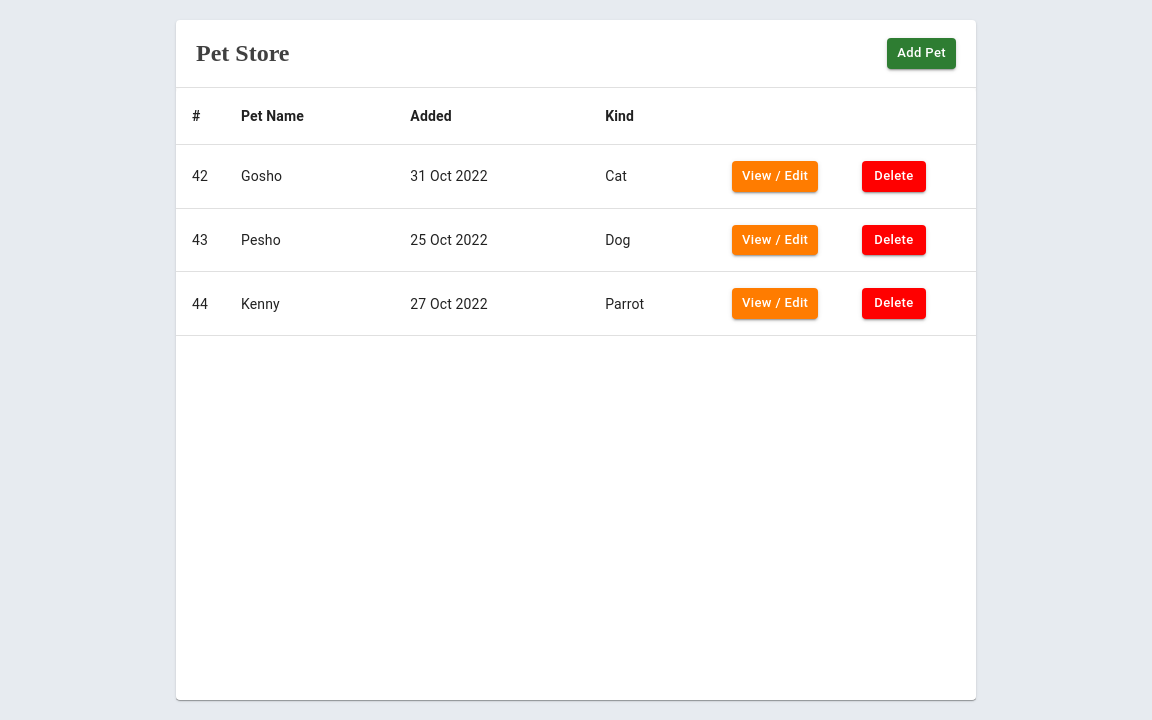
it: clicking the cancel button on the edit modal closes the modal
Click the button "View / Edit" in the row of "42".
click(775, 176)  # box [732, 161, 818, 192]
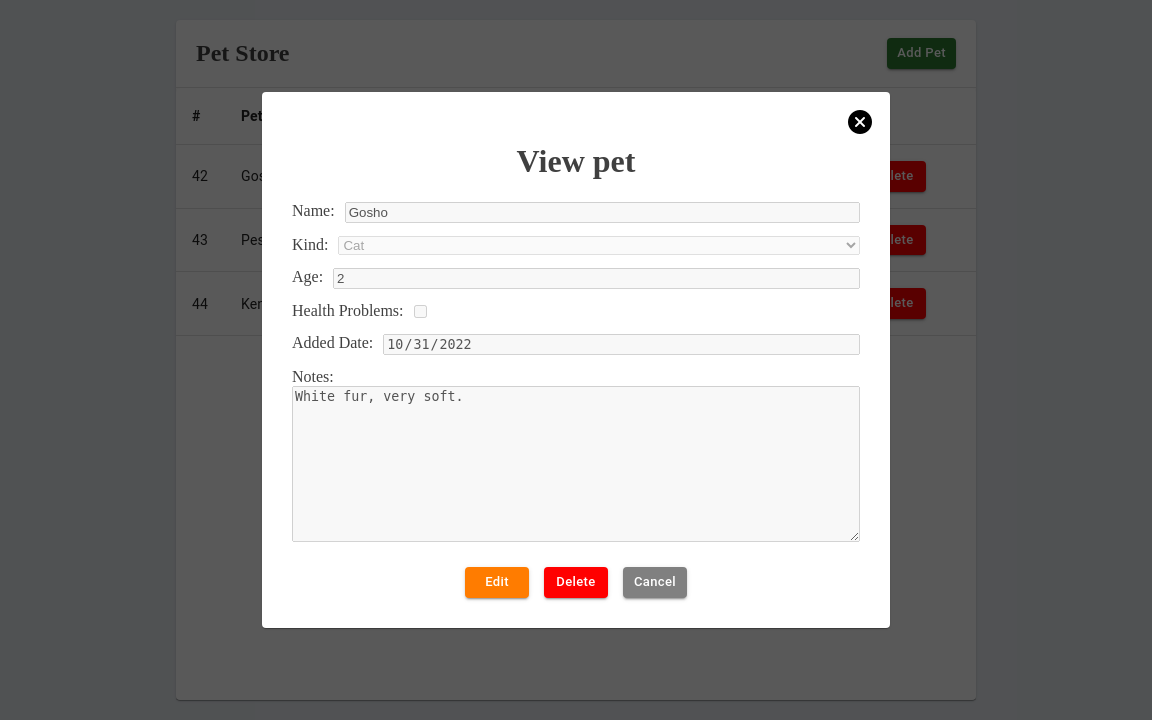
Click the button "Cancel".
click(655, 583)  # box [623, 567, 687, 598]
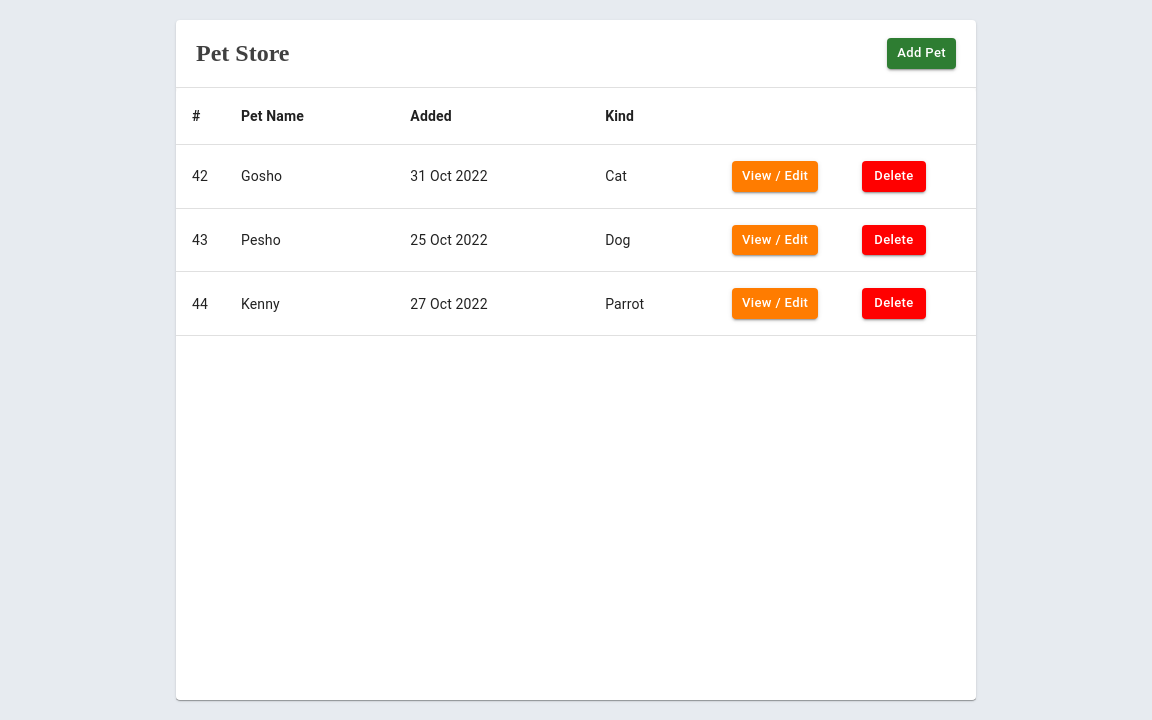
Expected: the button "View / Edit pet modal" is gone
